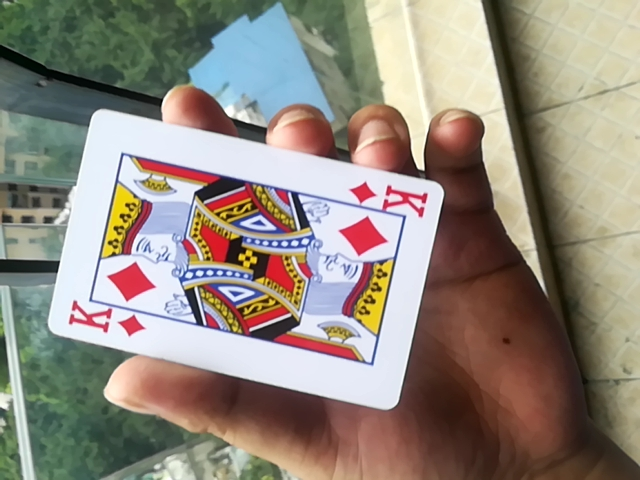fk k: (38, 114, 456, 416)
